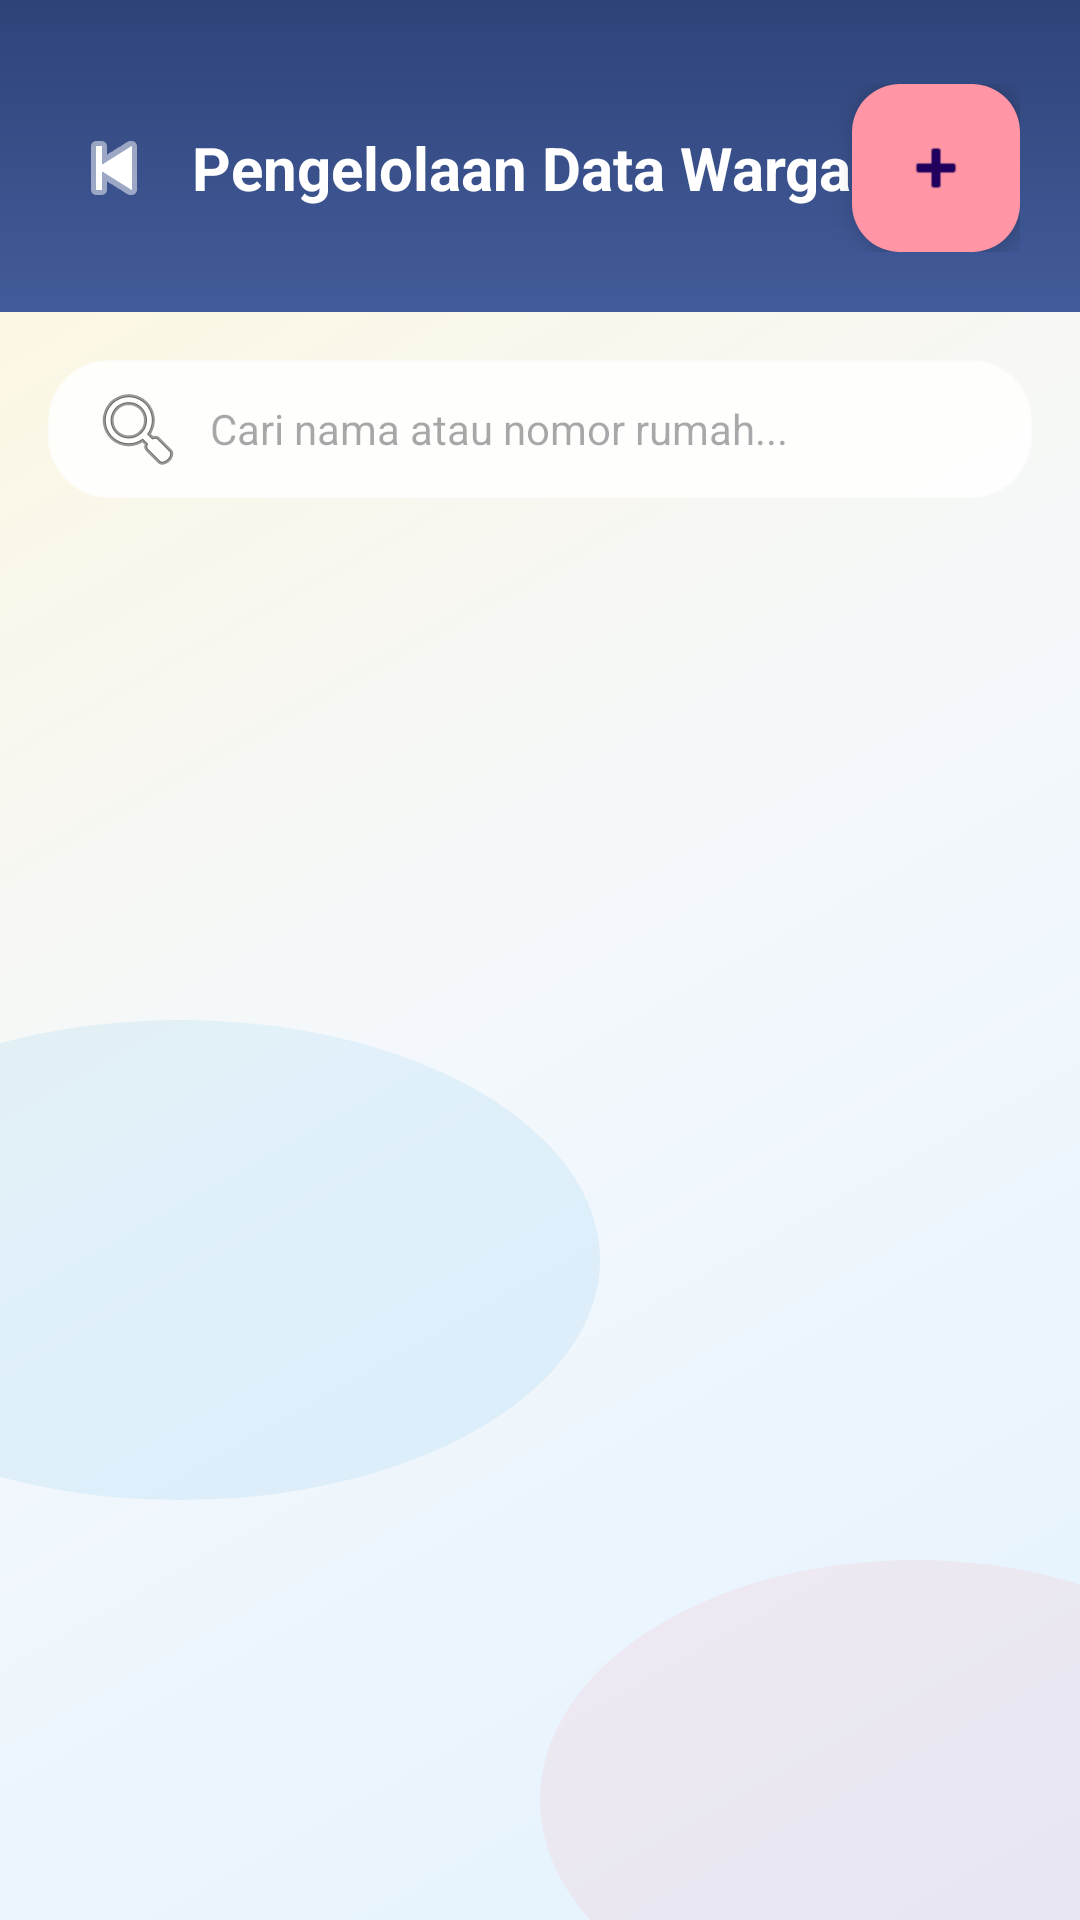

Icons on this 1080 × 1920 Android screen, each with its box as (left=x1, top=y1, right=x2, bottom=y2):
Tambah Warga: (left=852, top=84, right=1020, bottom=252)
